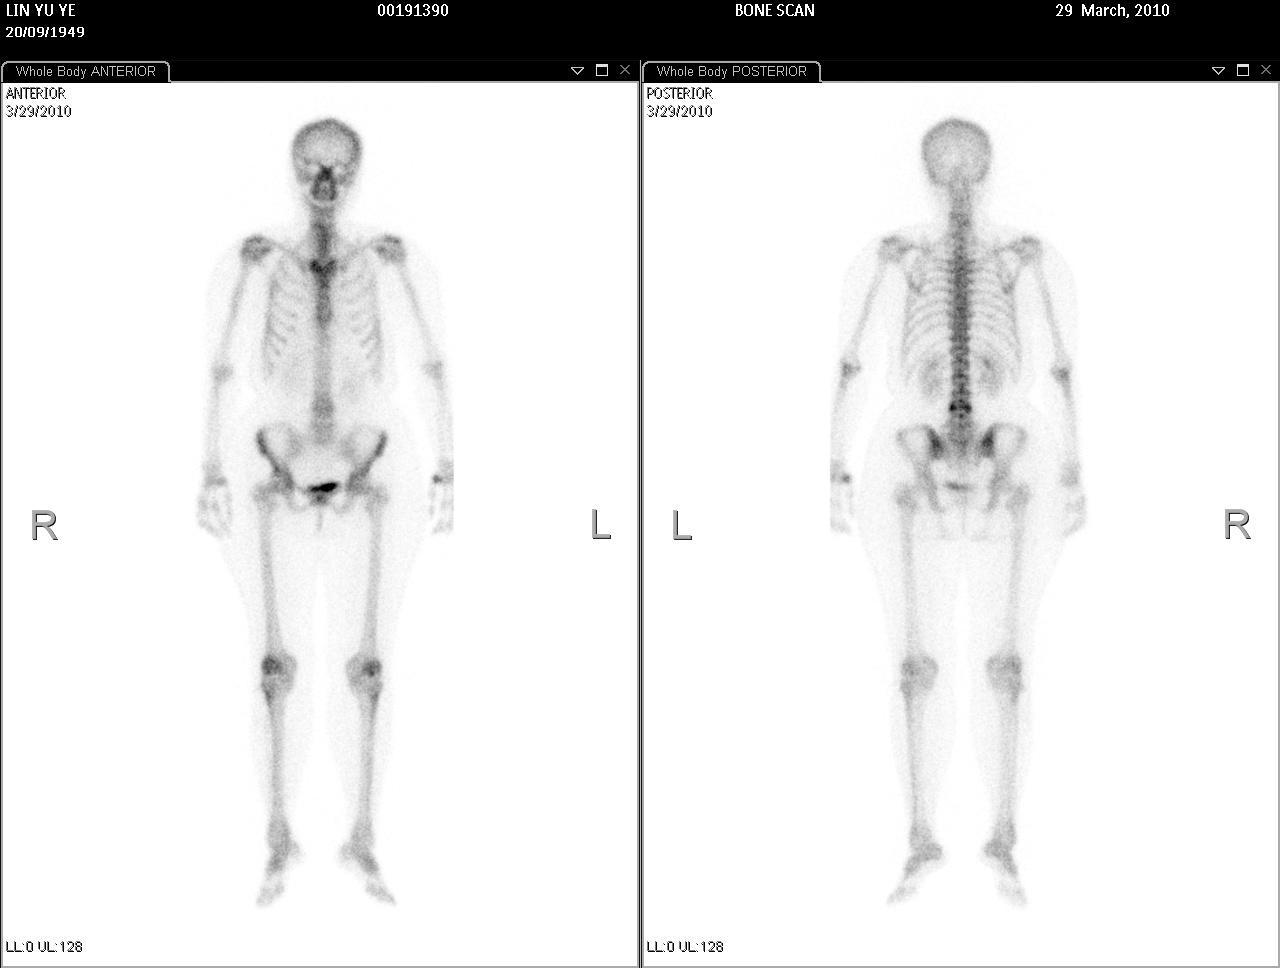person: (2, 84, 1276, 967)
